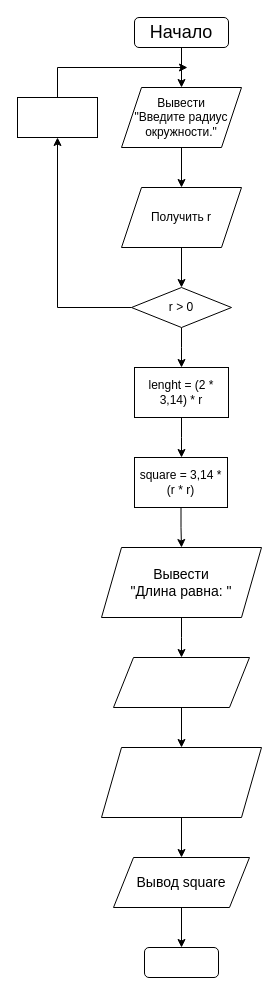
This 279x995 diagram has some shape labels left out. Here are the shapes that lost their labels. From the top down, the centre of each, then its label:
point 57,117: Введите r, большее 0
point 181,682: Вывод lenght
point 181,782: Вывести "Площадь равна: "
point 181,962: Конец
